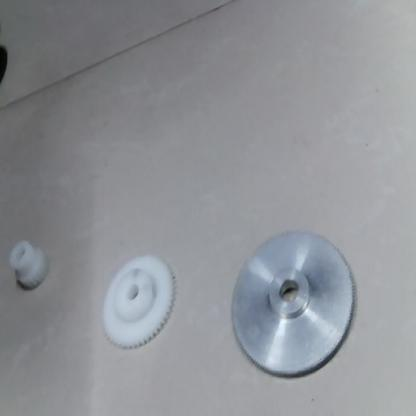FOD: (228, 226, 361, 388), (96, 254, 184, 356), (3, 234, 52, 294)
